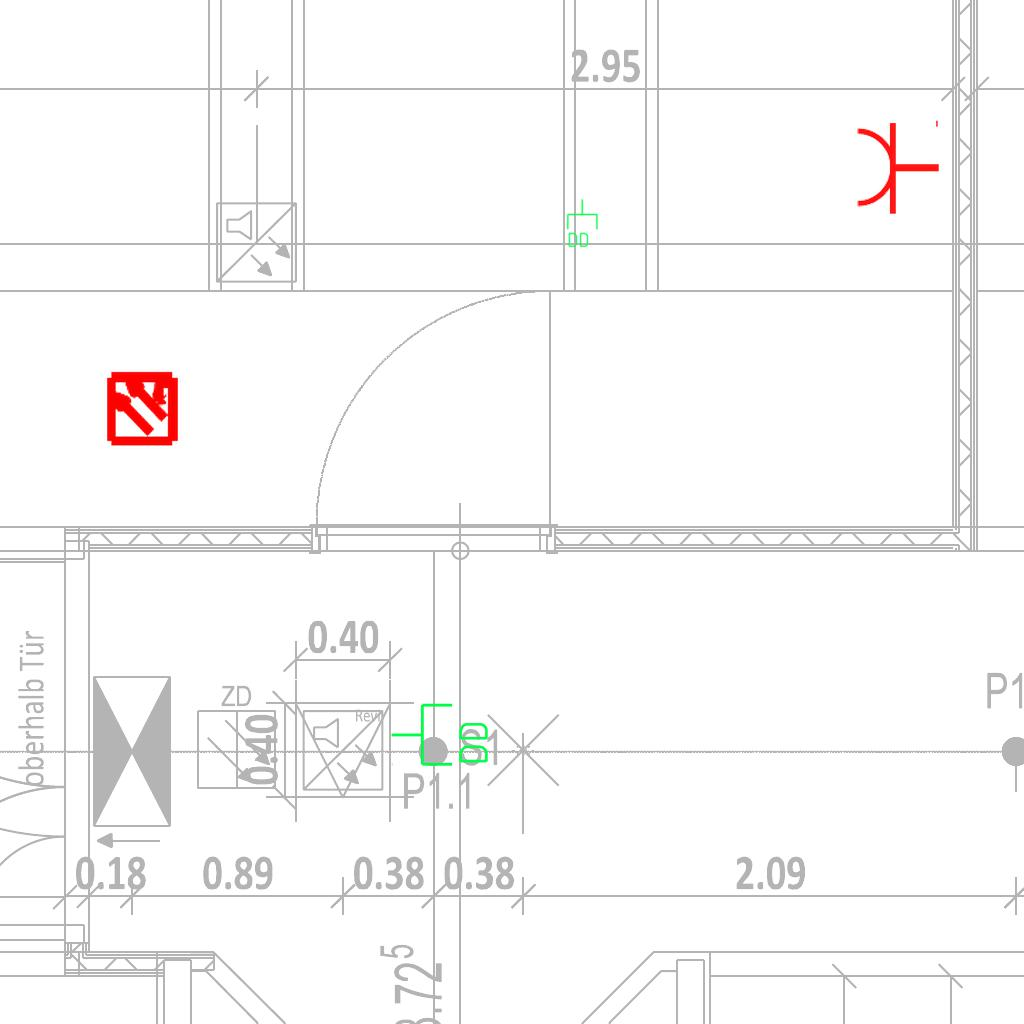Datenanschluss_zweifach: (389, 701, 492, 770), (565, 198, 599, 249)
OT_Multisensormelder_(Kombination_RMO_WMD): (86, 350, 199, 463)
Schukosteckdose_einfach: (854, 116, 941, 216)
